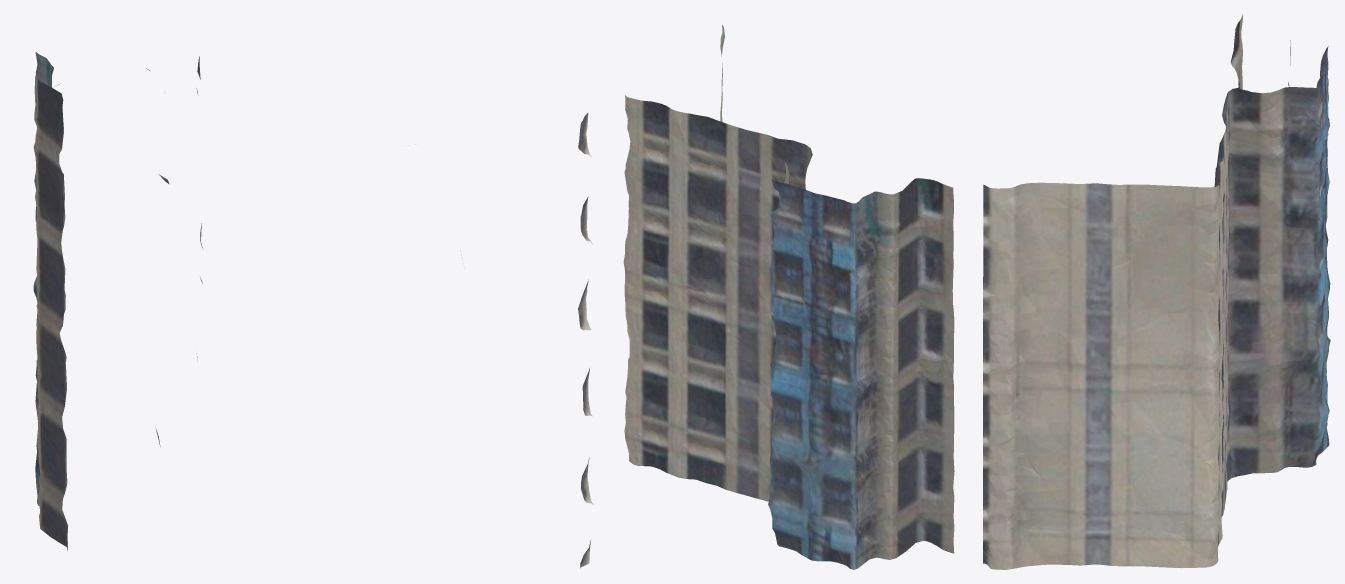
The model's file is Tile__004__001_L22_00041500.glb.
3 renders of one model, left to right at view 1: azimuth 30°, elevation 25°; view 2: azimuth 150°, elevation 25°; view 3: azimuth 270°, elevation 25°, orthographic. The views are drawn at different scales.
Visible parts, largest first — view 1: root; view 2: root; view 3: root.
Part boxes in pixels (x1,y1,x2,y2): root: (33, 52, 593, 568); root: (623, 24, 954, 569); root: (983, 14, 1330, 569).
Bounding box in the file's own units: 11.34 × 11.43 × 9.47.
Materials: 1 (1 with a texture image).
